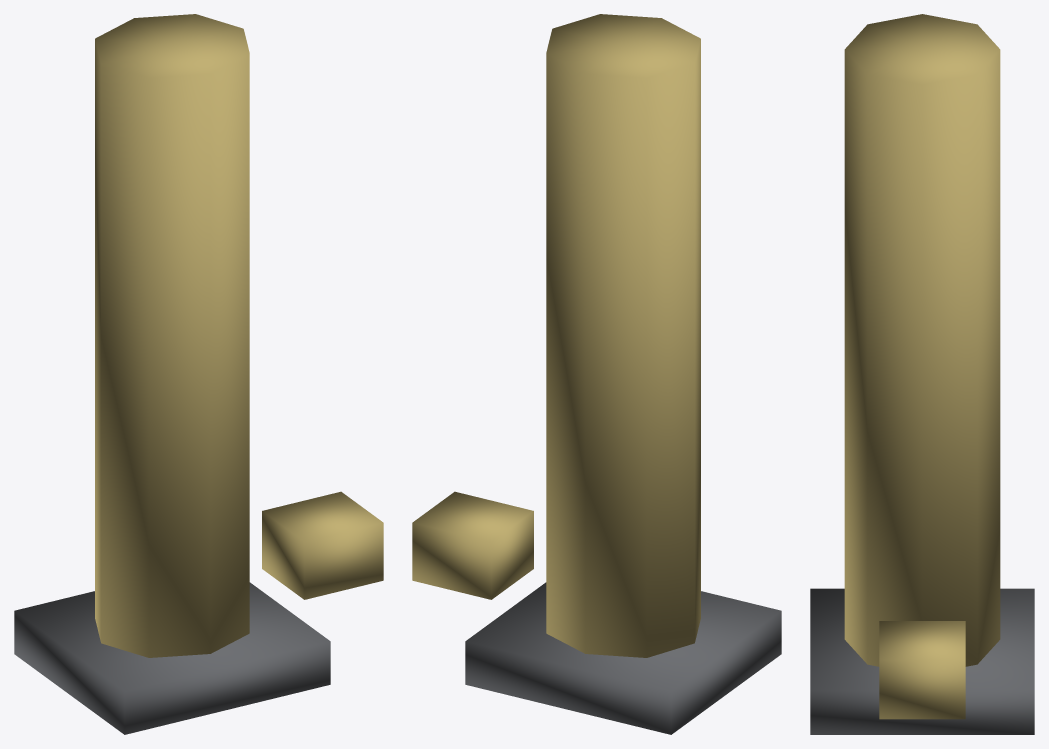
File: bollard_08.glb
3 views of the same model, side by side, from view 1: azimuth 30°, elevation 25°; view 2: azimuth 150°, elevation 25°; view 3: azimuth 270°, elevation 25° (orthographic).
Visible parts, largest first — view 1: world; view 2: world; view 3: world.
Boxes of the visible parts, left/top/right/bottom form: world: left=14, top=14, right=383, bottom=734; world: left=412, top=14, right=781, bottom=734; world: left=810, top=14, right=1034, bottom=734.
Bounding box in the file's own units: 0.4144 × 0.8428 × 0.2704.
